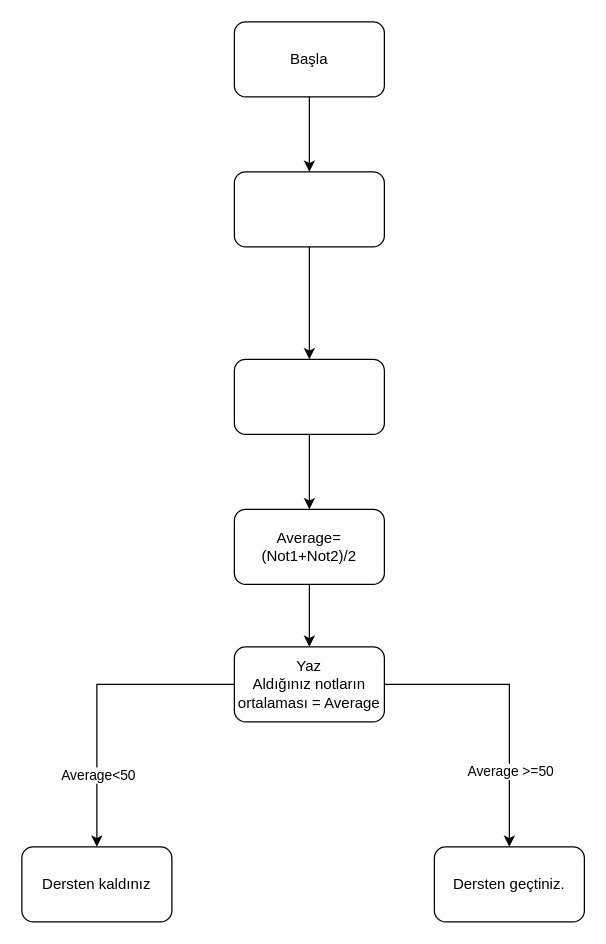
Image size: 606x944. Some labels were removed from this diagram. The shapes that lost their labels are listed below. From the top down, each one's centre as x and y in pixels, then its label:
pixel 308 209: 1. yazılı notunu giriniz(Not1)
pixel 308 396: 2. yazılı notunu giriniz. (Not2)
